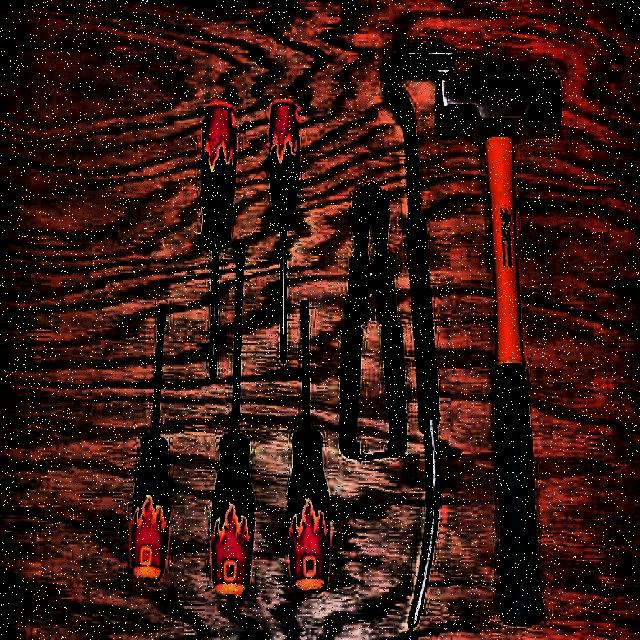hammer: (439, 62, 563, 624)
